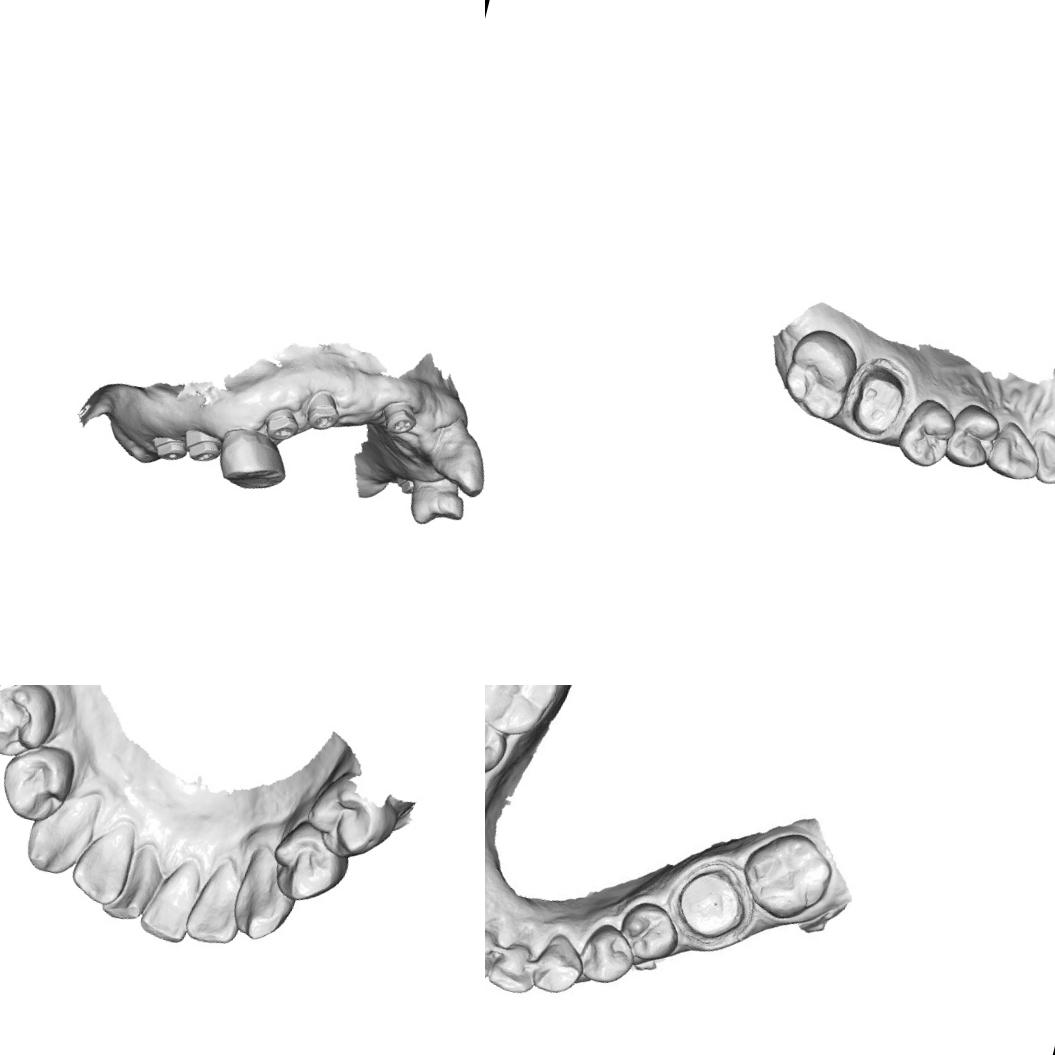canine: (19, 786, 102, 883), (225, 846, 304, 946), (423, 411, 485, 500), (984, 418, 1048, 485), (533, 932, 585, 993)
crown: (668, 856, 756, 943), (845, 358, 914, 444)
implant: (301, 386, 346, 436), (146, 428, 190, 465), (396, 476, 415, 496)
implant_minus: (181, 425, 224, 467), (260, 403, 300, 443)
implant_plus: (375, 396, 421, 439)
incisor: (180, 858, 252, 951), (66, 820, 134, 908), (136, 862, 204, 946), (98, 837, 164, 923), (485, 937, 542, 997), (1022, 427, 1055, 491), (485, 927, 501, 985)
molar: (736, 826, 832, 922), (775, 322, 861, 425), (485, 685, 566, 738)
premolar: (299, 773, 399, 868), (262, 814, 353, 910), (0, 738, 79, 828), (210, 421, 296, 500), (893, 393, 960, 473), (0, 685, 64, 764), (941, 399, 1006, 474), (616, 899, 685, 968), (404, 468, 472, 534), (580, 922, 638, 984), (485, 712, 507, 775)
